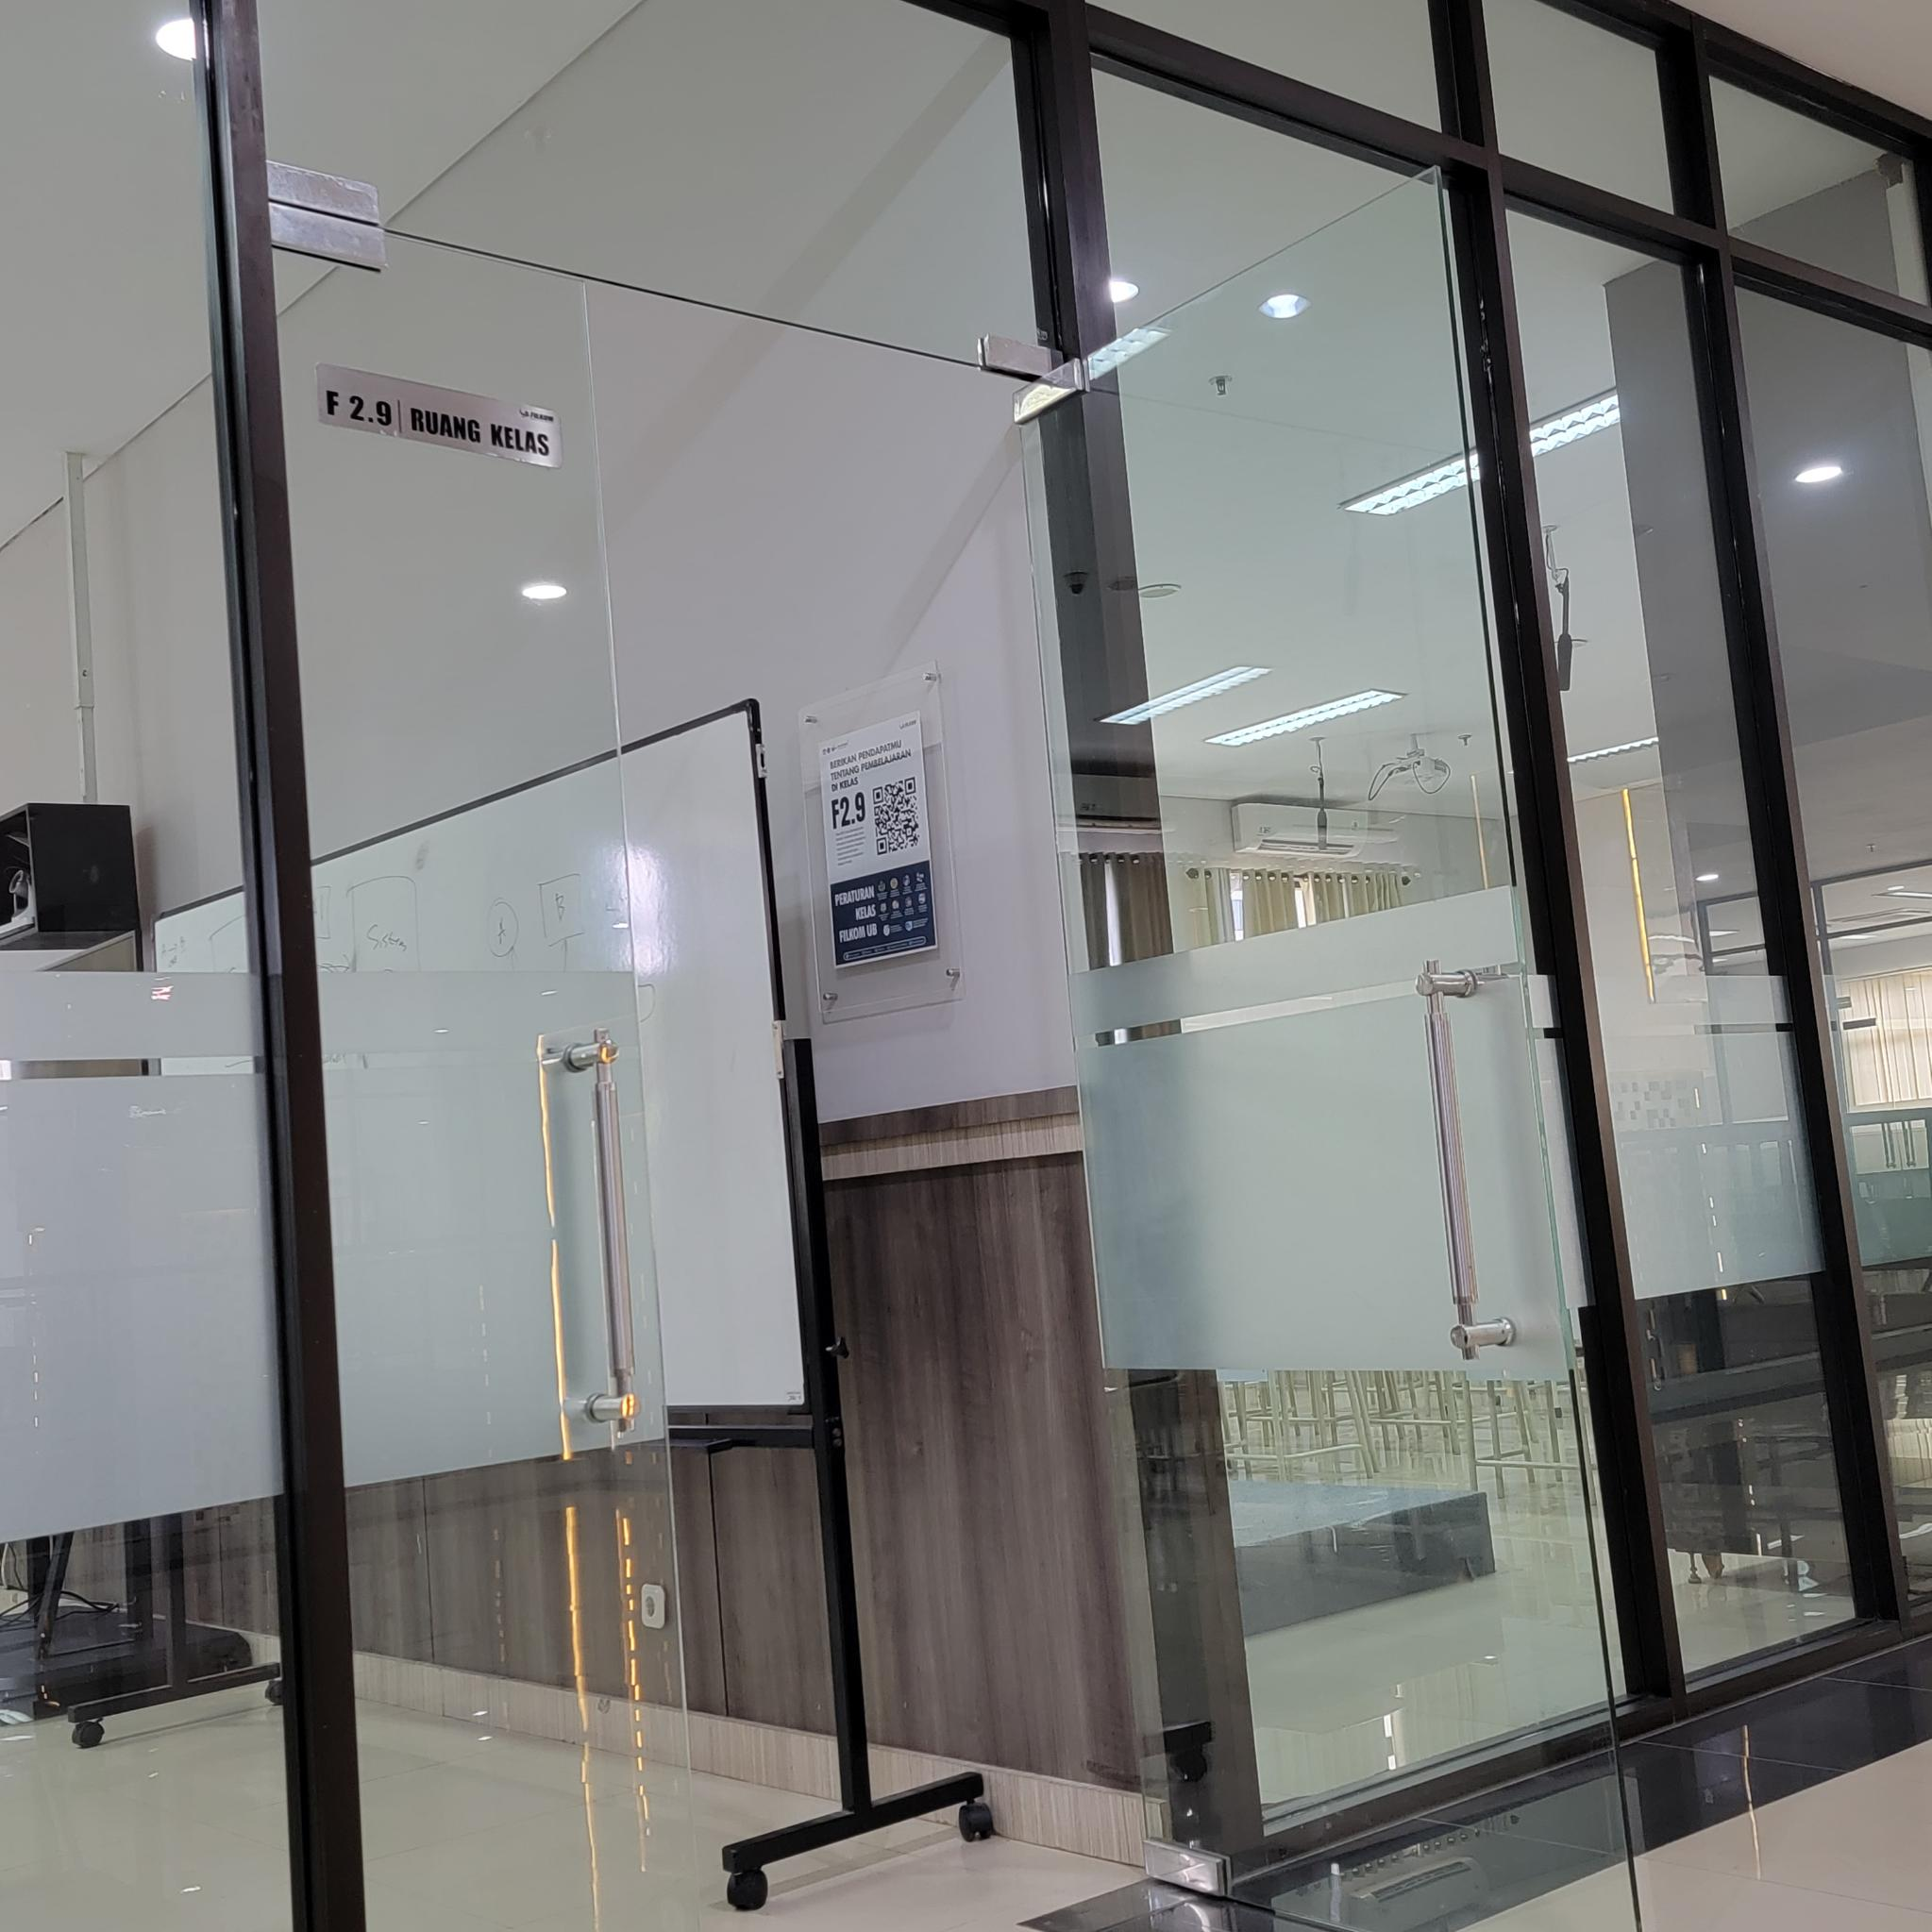plate: (315, 361, 566, 472)
